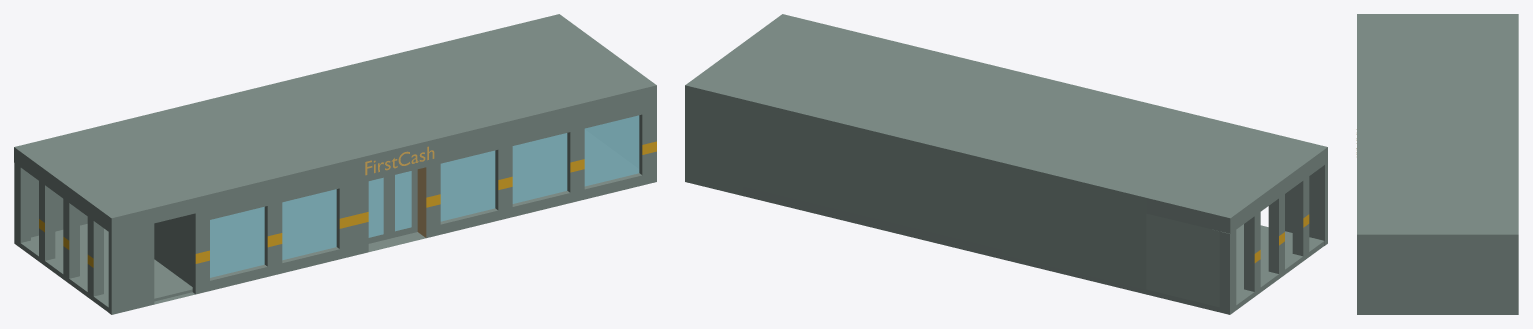
Rendered from first.glb.
The picture shows the model from 3 angles, left to right: view 1: azimuth 30°, elevation 25°; view 2: azimuth 150°, elevation 25°; view 3: azimuth 270°, elevation 25°; orthographic projection. The views are drawn at different scales.
Parts seen in each view (by area): view 1: Cube; view 2: Cube; view 3: Cube.
Part boxes in pixels (bbox=[...]): Cube: bbox=[14, 14, 656, 314]; Cube: bbox=[685, 14, 1327, 314]; Cube: bbox=[1357, 14, 1518, 314].
Size of what is drawn, in the model's own units: 29.11 by 4.93 by 9.03.
